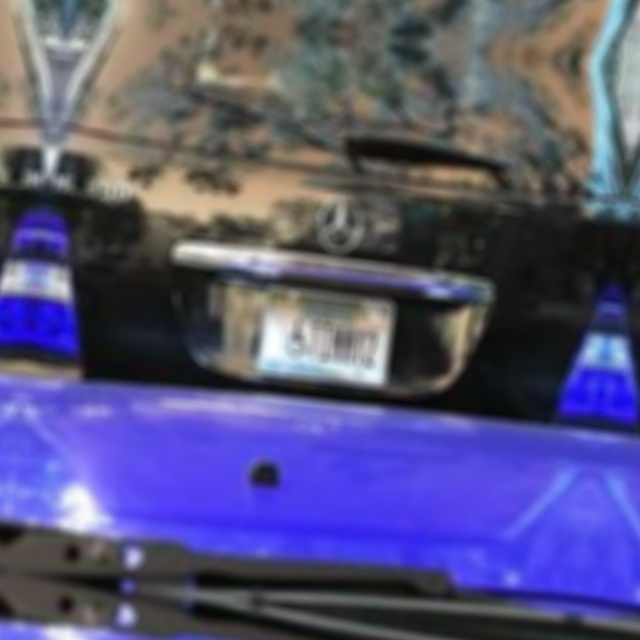ISA: (285, 318, 310, 357)
